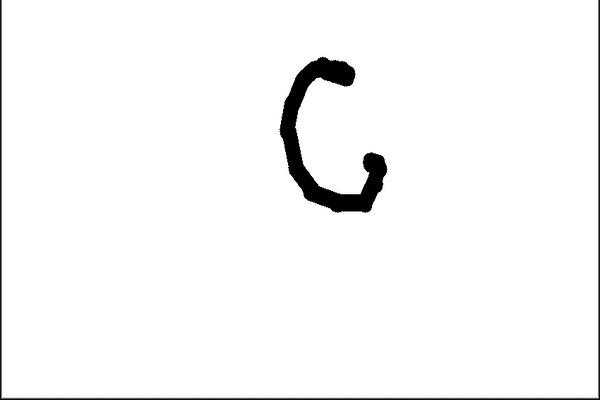C: (272, 53, 388, 217)
